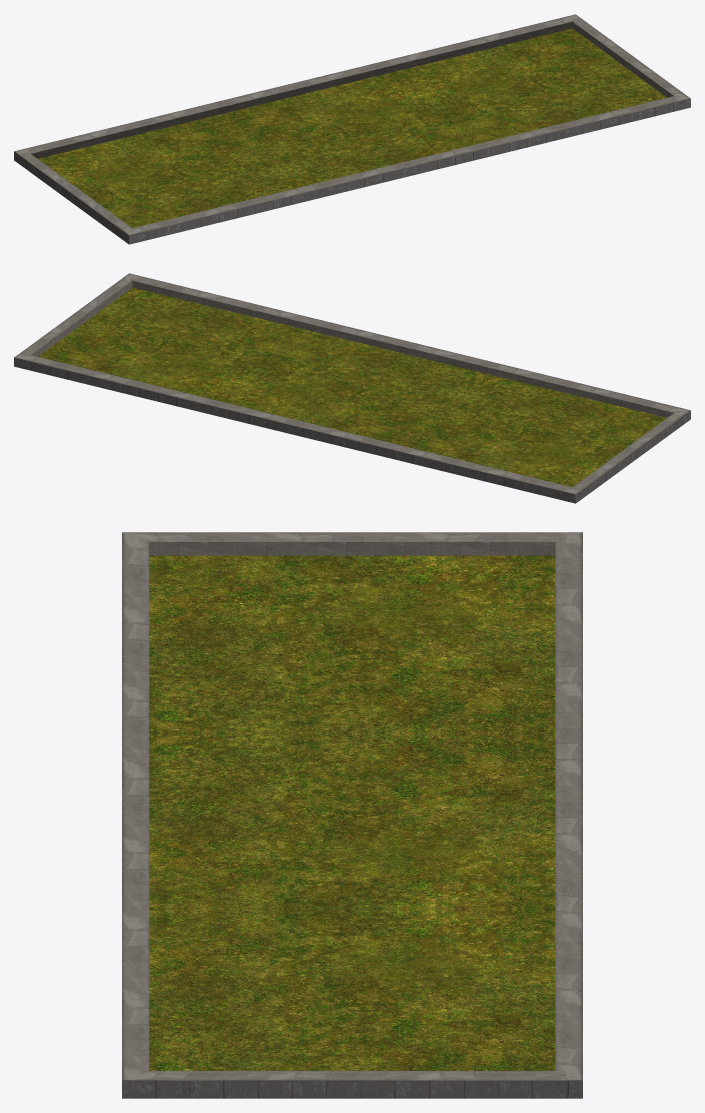
Rendered from gereen_beltsambase.FBX.
3 renders of one model, top to bottom at view 1: azimuth 30°, elevation 25°; view 2: azimuth 150°, elevation 25°; view 3: azimuth 270°, elevation 25°, orthographic. The views are drawn at different scales.
Visible parts, largest first — view 1: gereen_beltsambase; view 2: gereen_beltsambase; view 3: gereen_beltsambase.
Boxes of the visible parts, left/top/right/bottom form: gereen_beltsambase: left=14, top=14, right=690, bottom=244; gereen_beltsambase: left=14, top=273, right=690, bottom=503; gereen_beltsambase: left=122, top=532, right=582, bottom=1098.
Bounding box in the file's own units: 19664 × 300 × 6986.
